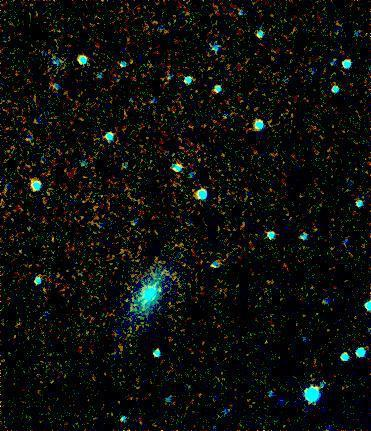star: (145, 277, 175, 307)
